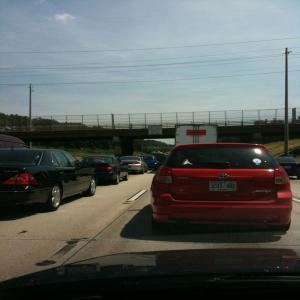Vehicle-registration-plate: (209, 182, 238, 194)
